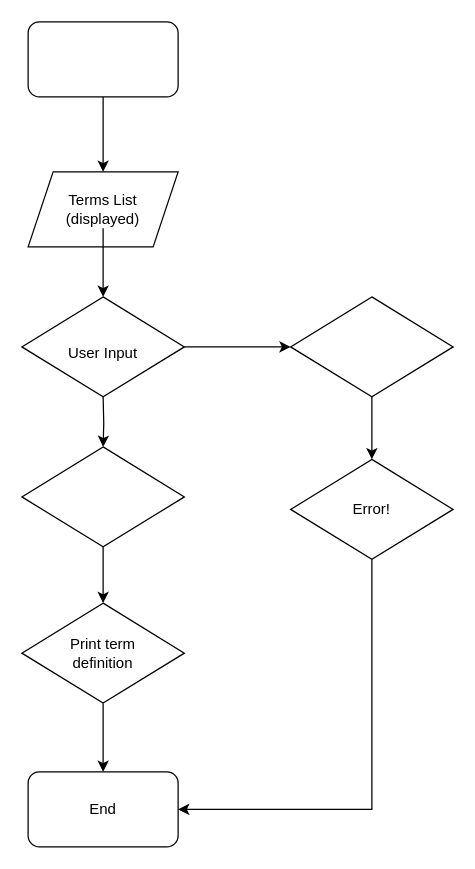
The diagram is 475 pixels wide and 869 high, and some of its shapes have lost their labels. Each missing label, with the centre of its shape:
"Invalid input" belongs at point 371,346.
"Start" belongs at point 102,59.
"Valid input (1-12)" belongs at point 102,496.
